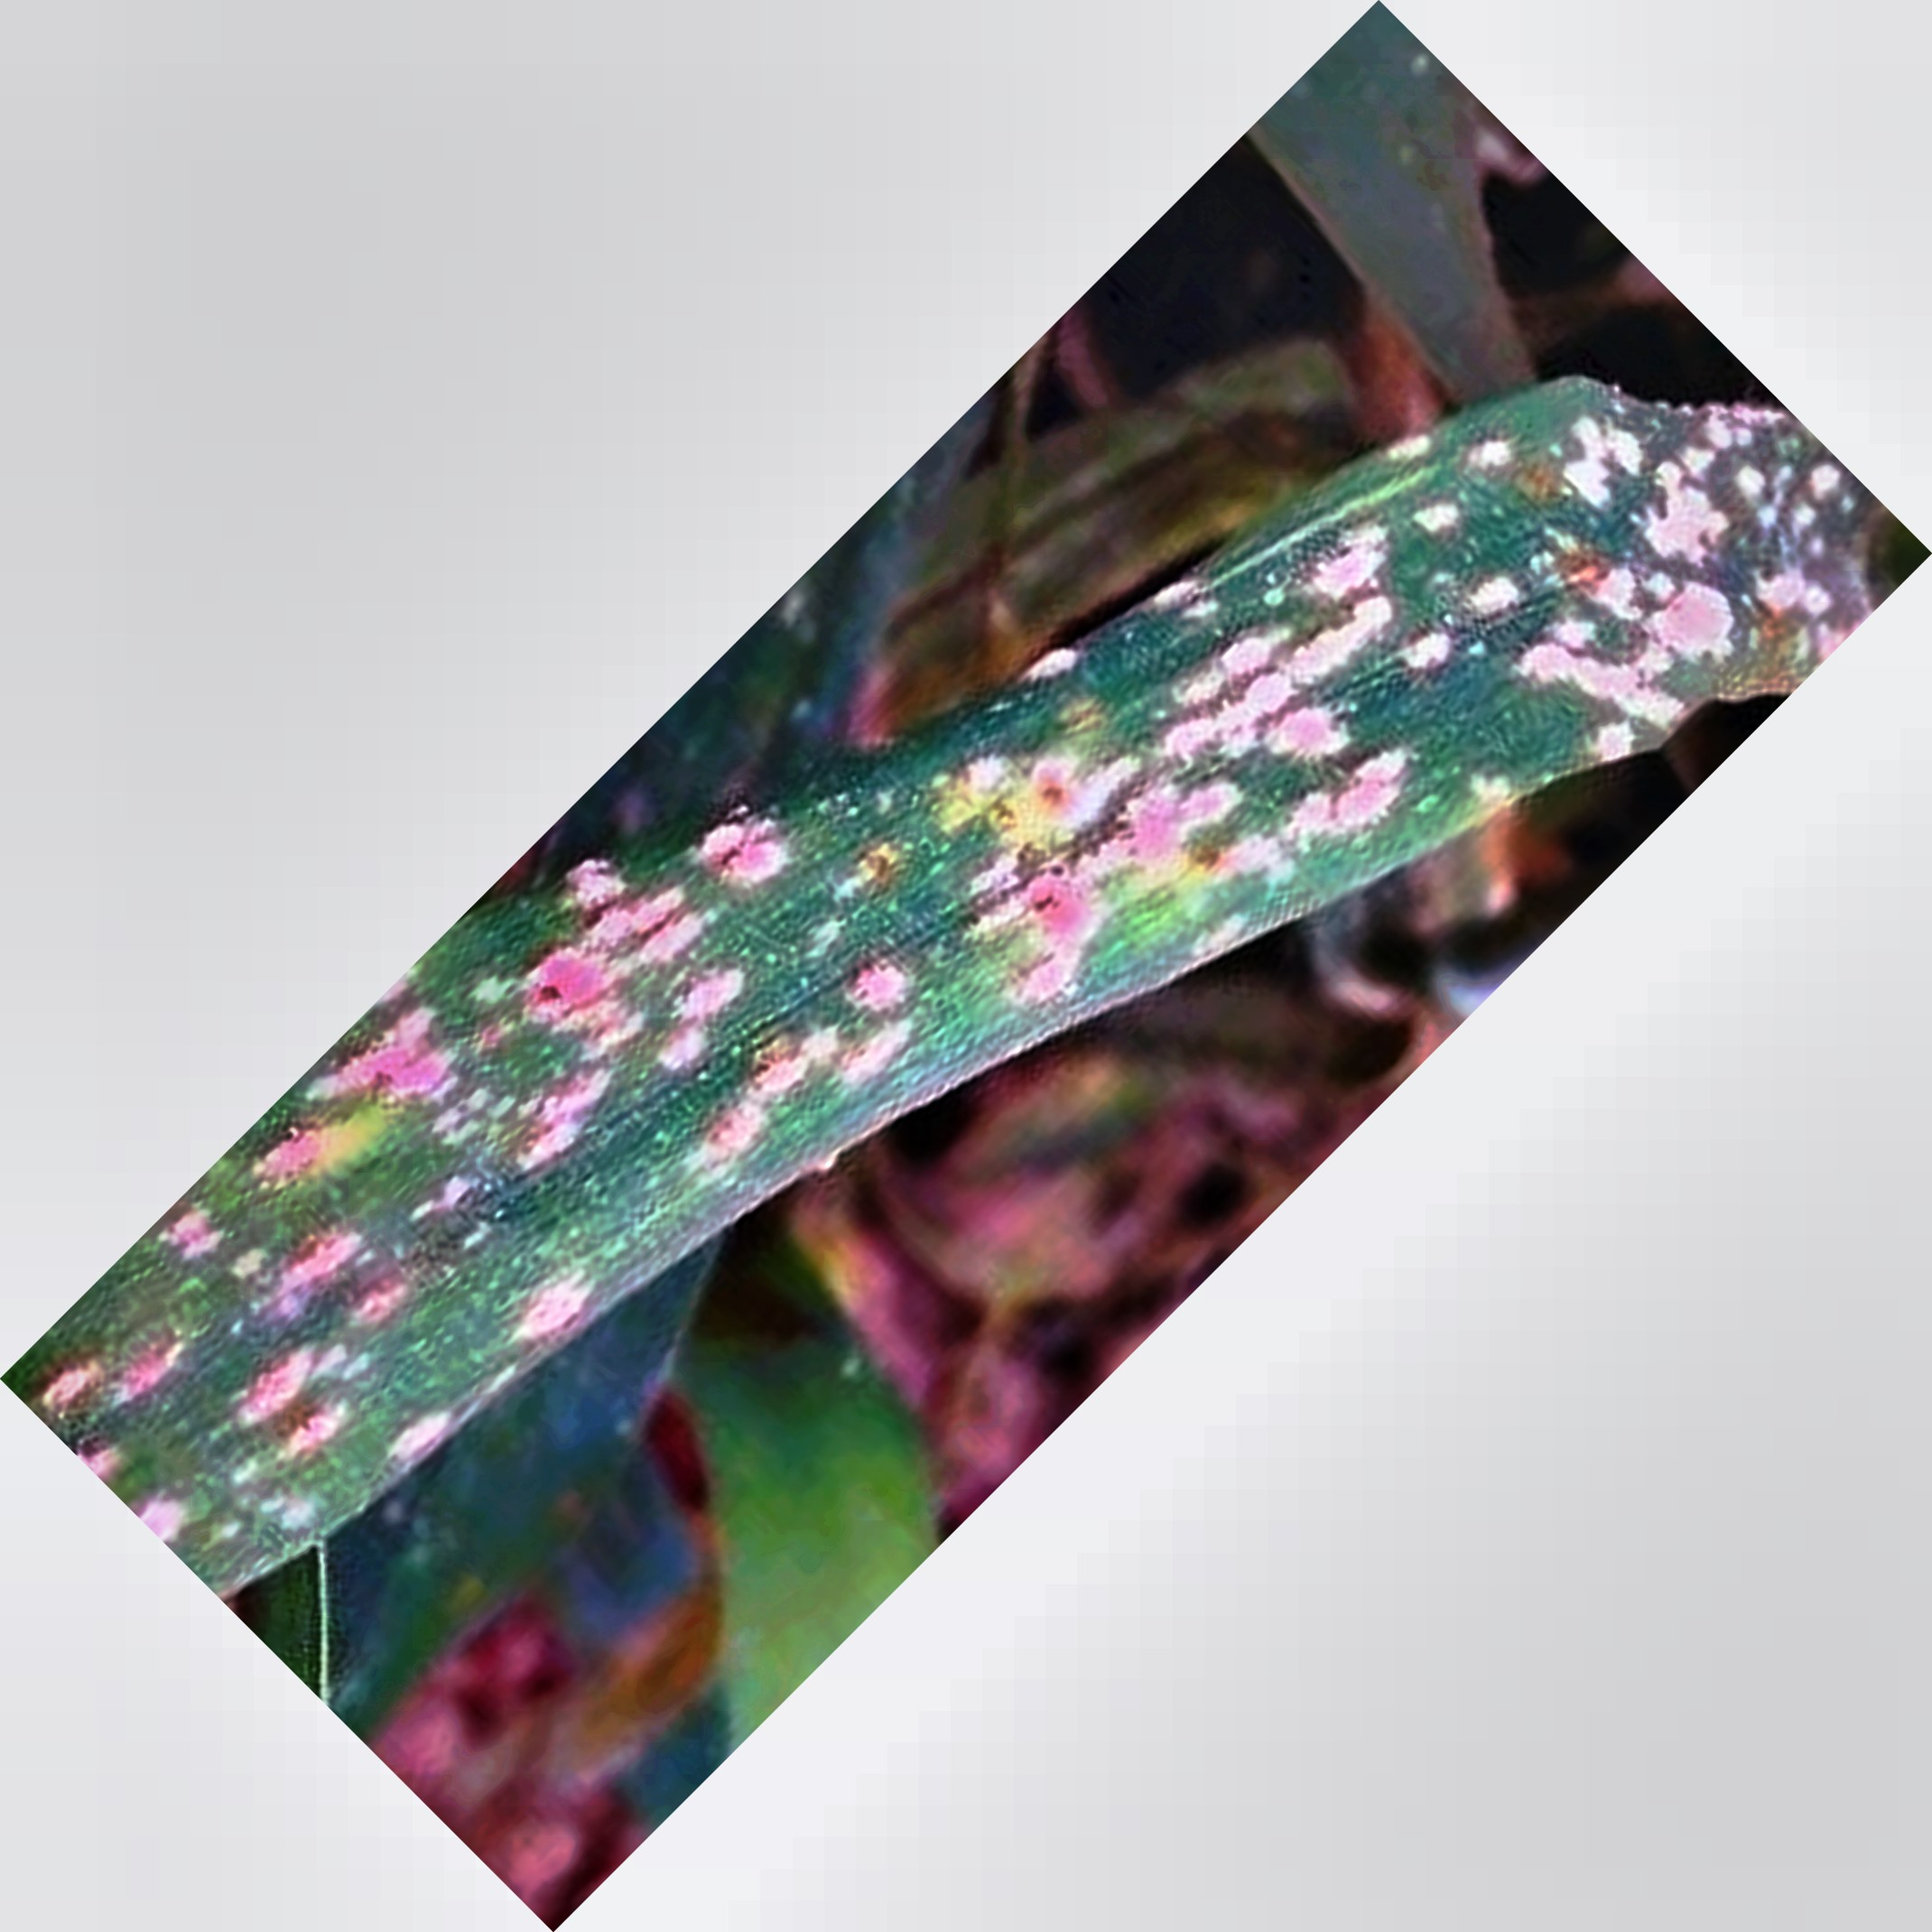Powdery Mildew: (179, 472, 1541, 1463)
